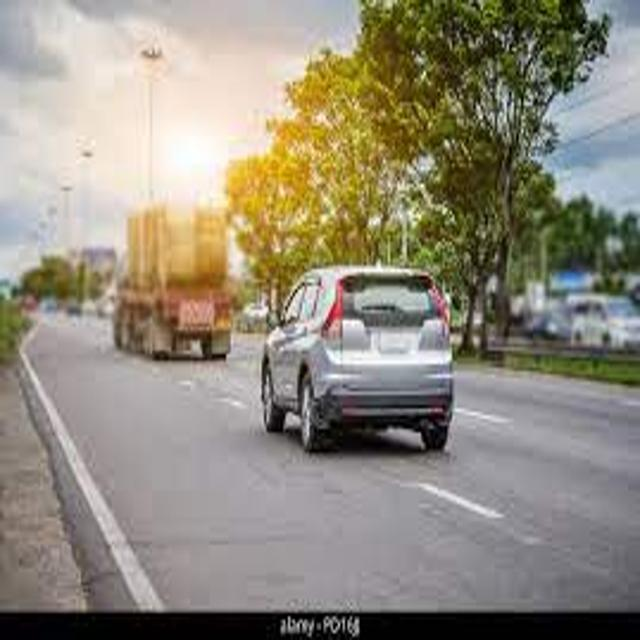car: (263, 268, 453, 449)
